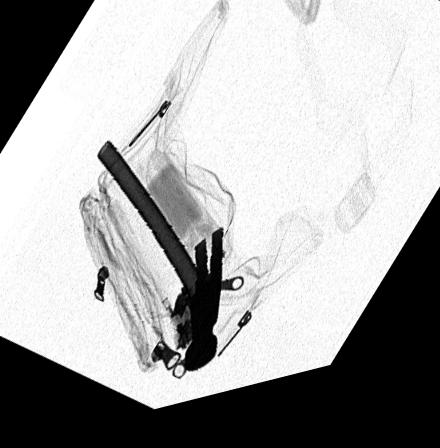Hammer: (94, 143, 222, 381)
